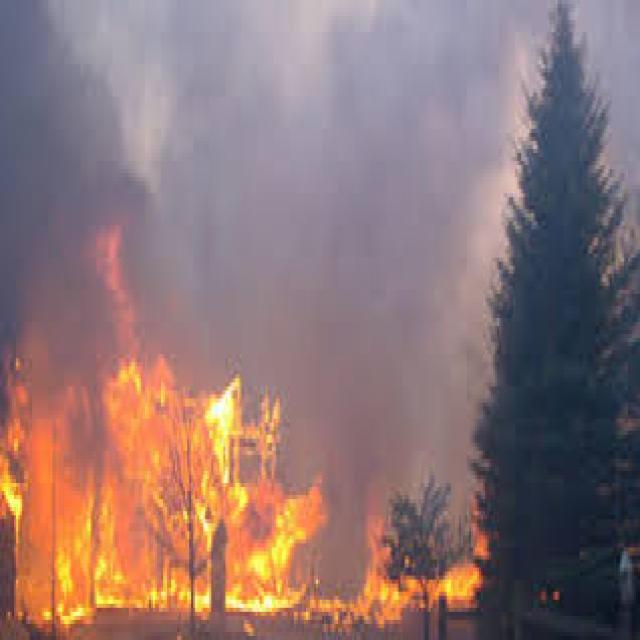Fire: (122, 362, 287, 633), (2, 314, 120, 630), (289, 463, 491, 638)
Smoke: (287, 2, 487, 466), (123, 4, 286, 363), (0, 0, 123, 319)
